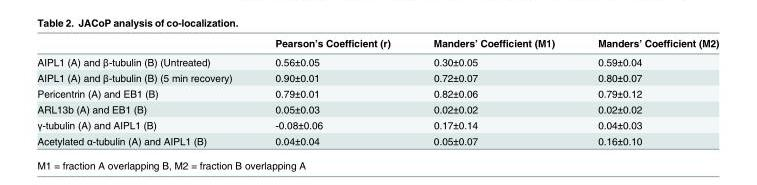table: (36, 36, 718, 146)
table column: (36, 36, 253, 146), (411, 36, 575, 146), (253, 36, 411, 146), (575, 36, 718, 146)
table column header: (36, 36, 718, 52)
table row: (36, 52, 718, 69), (36, 36, 718, 52), (36, 69, 718, 85), (36, 85, 718, 101), (36, 116, 718, 132), (36, 101, 718, 116), (36, 132, 718, 146)
